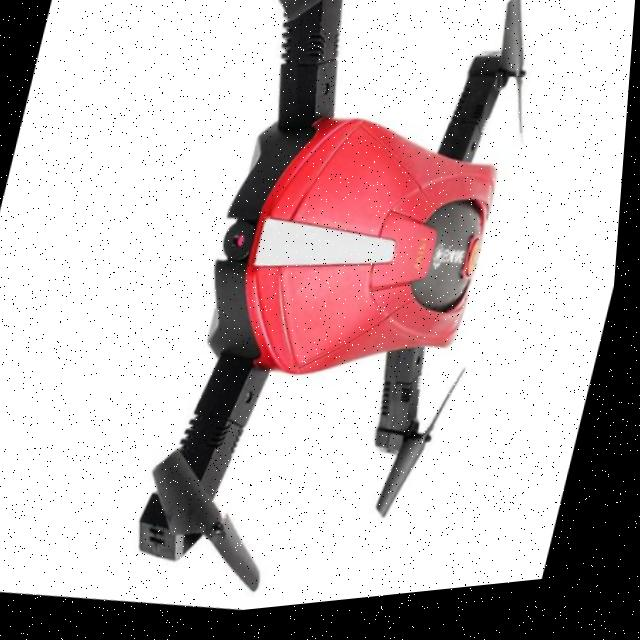drones: (24, 0, 584, 635)
